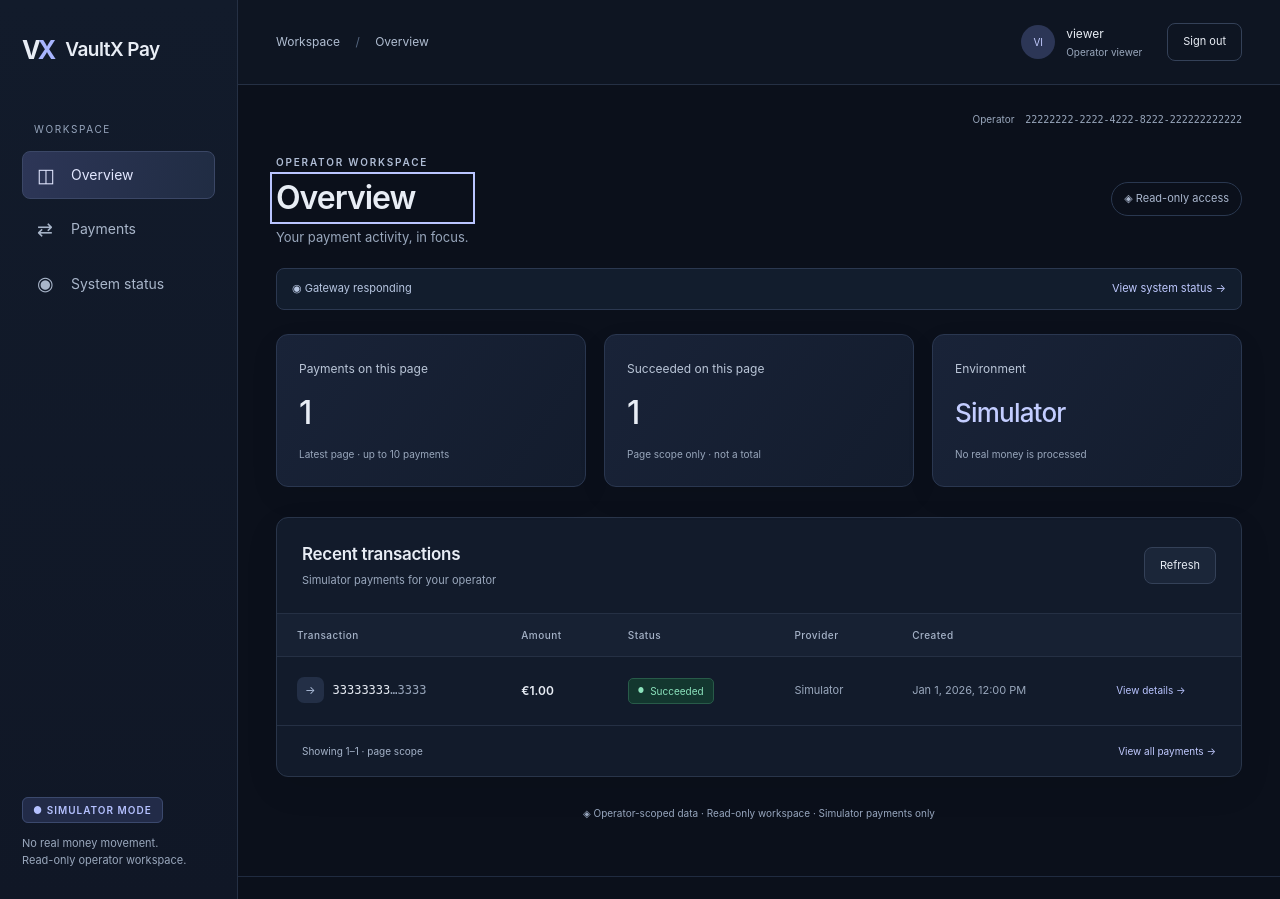
Test: clears protected content before logout and stays fail closed on logout failure
Expected: the text "€1.00" is shown, [501,657,608,725]
Click the button "Sign out": (1205, 42) [1167,23,1242,61]
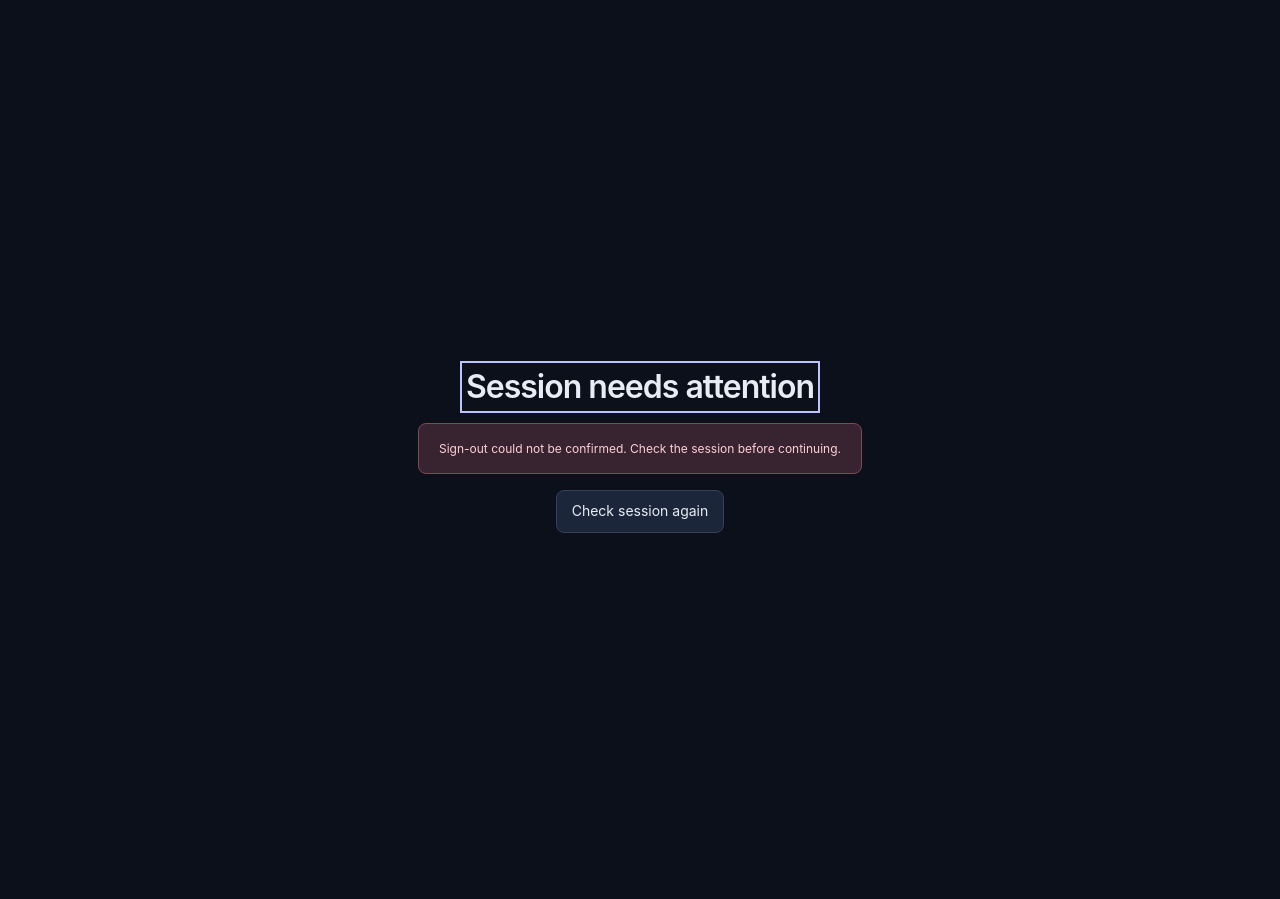
Now the message "Sign-out could not be confirmed. Check the session before continuing." is shown, box [418,423,862,474]
Now the text "€1.00" is gone
